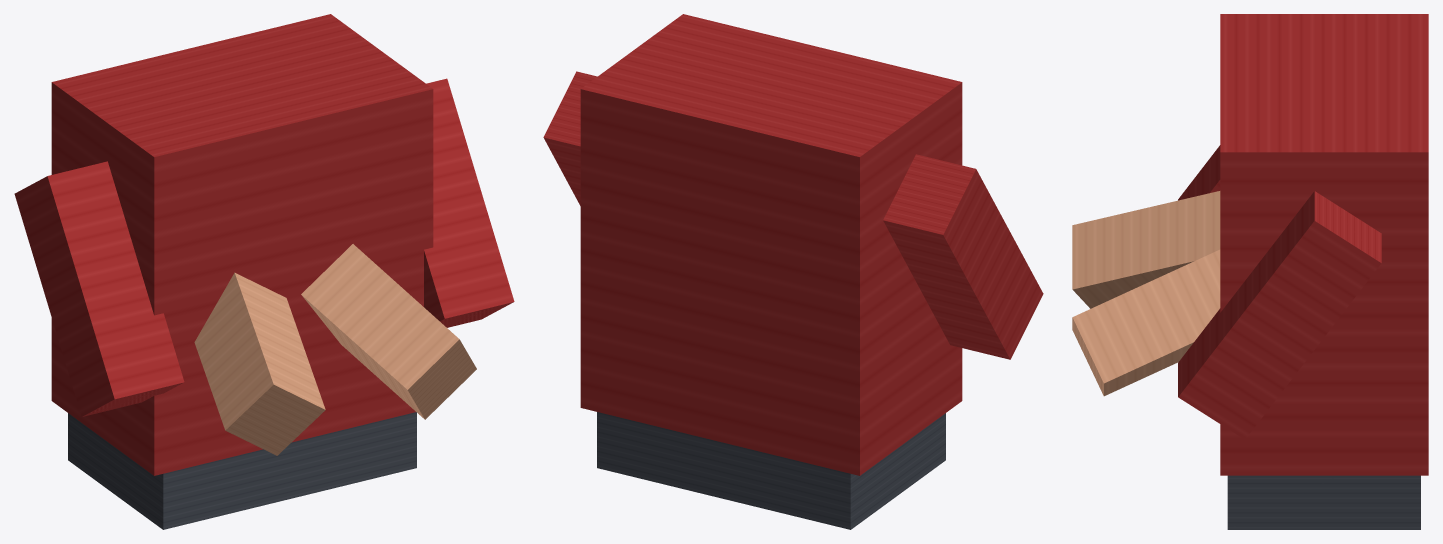
The model's file is arrodillado_torso.obj.
3 renders of one model, left to right at view 1: azimuth 30°, elevation 25°; view 2: azimuth 150°, elevation 25°; view 3: azimuth 270°, elevation 25°, orthographic.
Parts seen in each view (by area): view 1: arrodillado_torso; view 2: arrodillado_torso; view 3: arrodillado_torso.
Boxes of the visible parts, x1,y1,x2,y2 form: arrodillado_torso: (14,14,514,529); arrodillado_torso: (543,14,1043,529); arrodillado_torso: (1072,14,1428,529).
Bounding box in the file's own units: 0.315 × 0.285 × 0.2395.
1 material, 1 textured.
